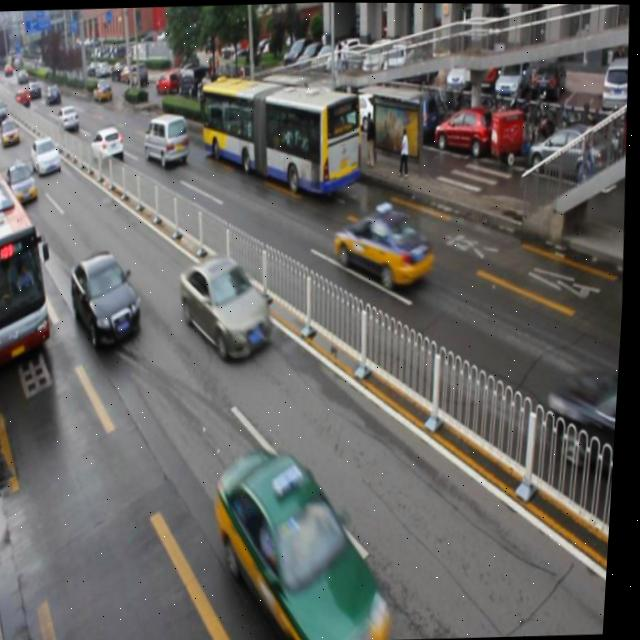car: (213, 447, 399, 640), (178, 252, 280, 362), (549, 366, 623, 491), (334, 203, 438, 287), (70, 253, 148, 348), (6, 158, 42, 206), (31, 135, 64, 177), (91, 127, 127, 161)
truck: (143, 111, 192, 168)
van: (195, 69, 367, 198), (0, 167, 63, 367)
